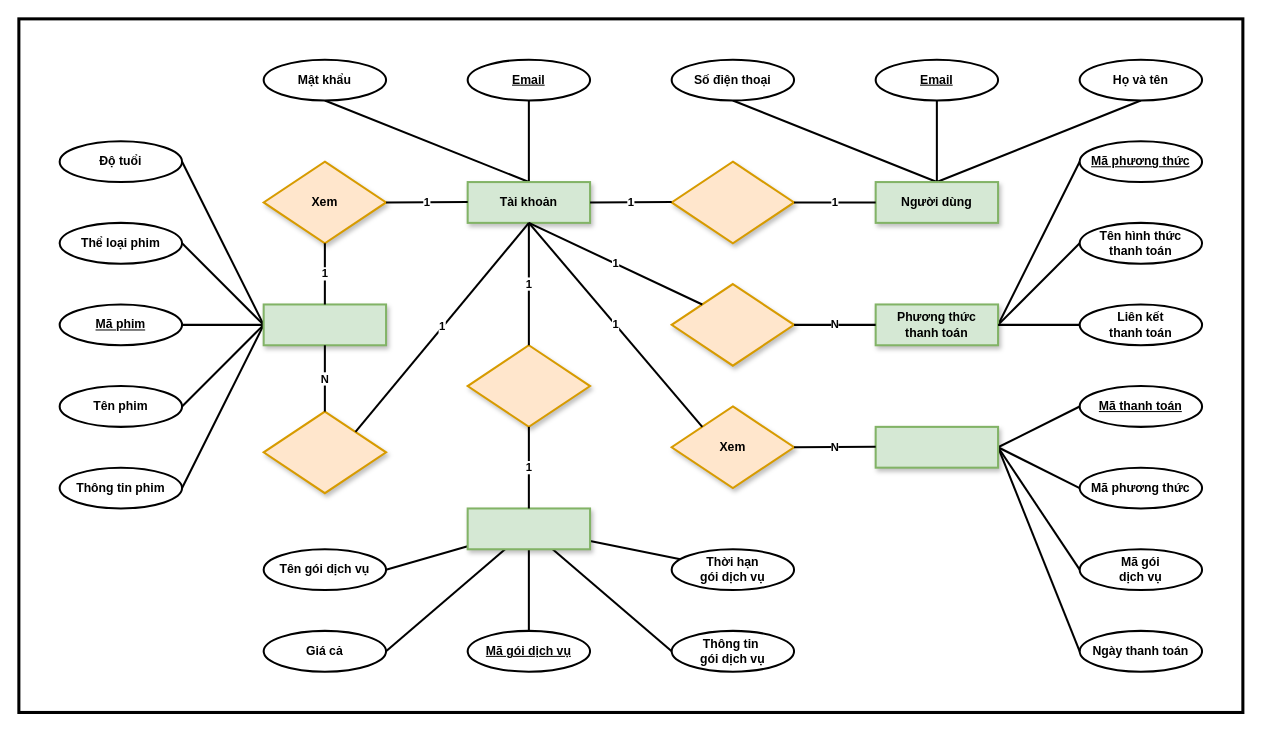
The diagram is 1262 pixels wide and 731 high, and some of its shapes have lost their labels. The centre of each missing label's shape, as x and y in pixels:
"Bộ phim" belongs at [325,326].
"Gói dịch vụ" belongs at [529,530].
"Lưu trữ / Tìm kiếm" belongs at [325,453].
"Lịch sử thanh toán" belongs at [937,448].
"Sở hữu" belongs at [733,325].
"Thanh toán / Thay đổi" belongs at [529,387].
"Đăng nhập / Đăng ký" belongs at [733,203].
